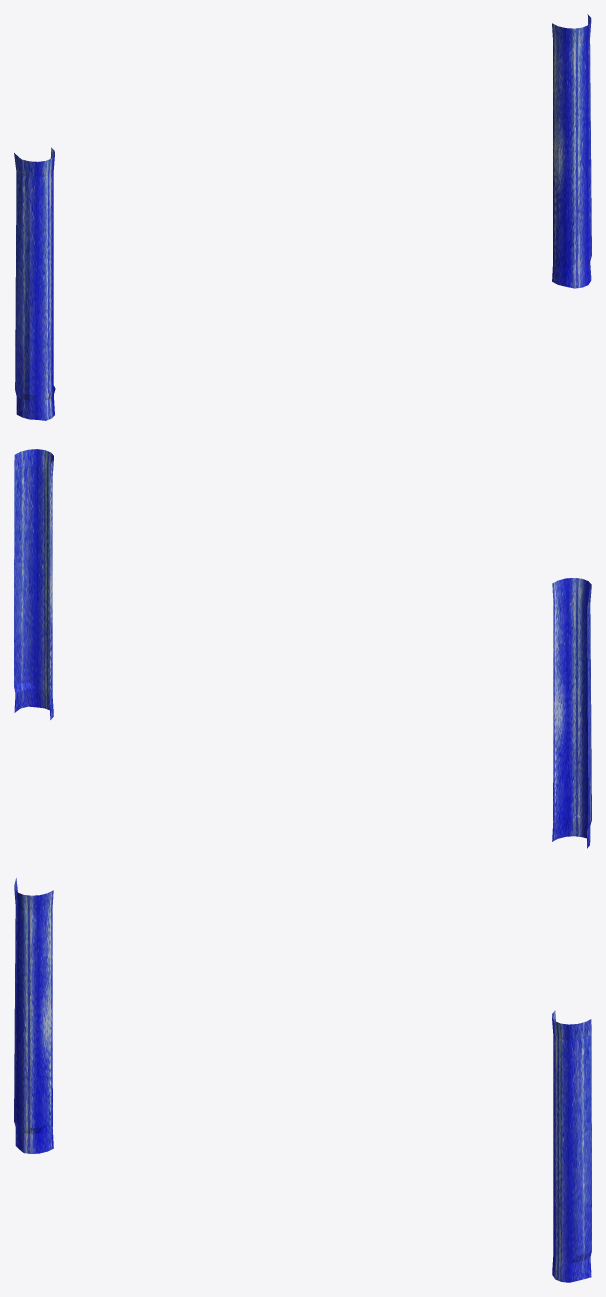
3 renders of one model, top to bottom at view 1: azimuth 30°, elevation 25°; view 2: azimuth 150°, elevation 25°; view 3: azimuth 330°, elevation 25°, orthographic.
Size of the model in its own units: 0.9243 by 0.4043 by 0.0416.
1 material, 1 textured.
